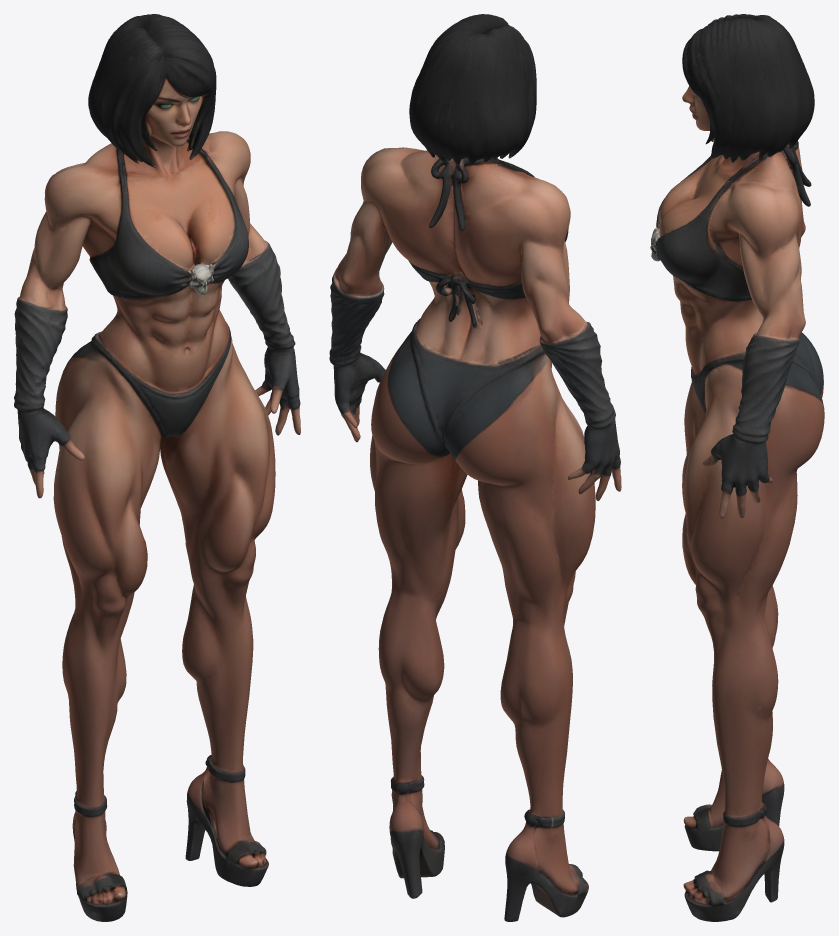
The model's file is viper.glb.
3 renders of one model, left to right at view 1: azimuth 30°, elevation 25°; view 2: azimuth 150°, elevation 25°; view 3: azimuth 270°, elevation 25°, orthographic. The views are drawn at different scales.
Parts seen in each view (by area): view 1: char; view 2: char; view 3: char.
Part boxes in pixels (x1,y1,x2,y2): char: (14,14,300,921); char: (329,14,621,921); char: (650,14,824,921).
Bounding box in the file's own units: 0.8724 × 2.62 × 0.4797.
1 material, 1 textured.
